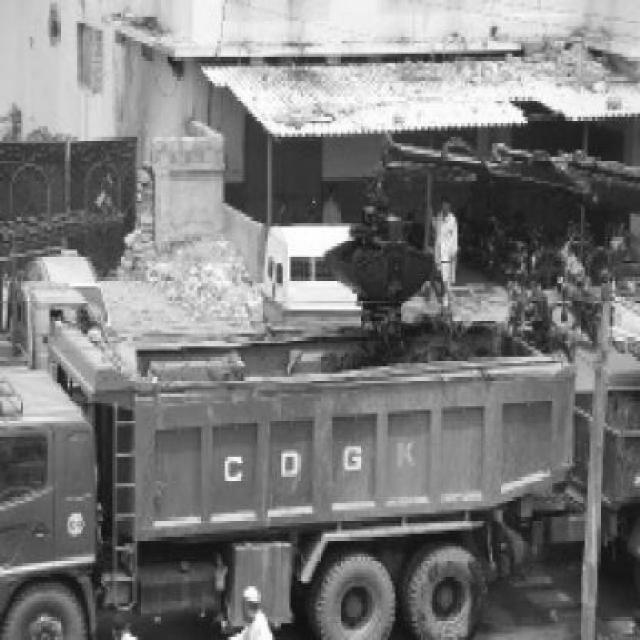Box Truck: (0, 321, 577, 640)
